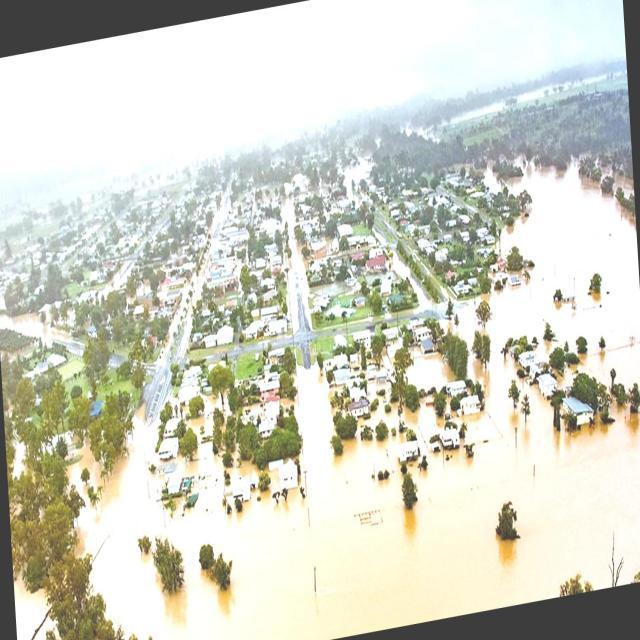flood: (79, 300, 640, 639)
